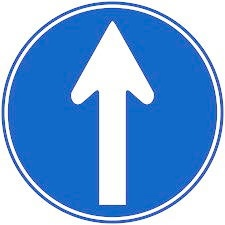Direction_sign: (2, 2, 223, 225)
